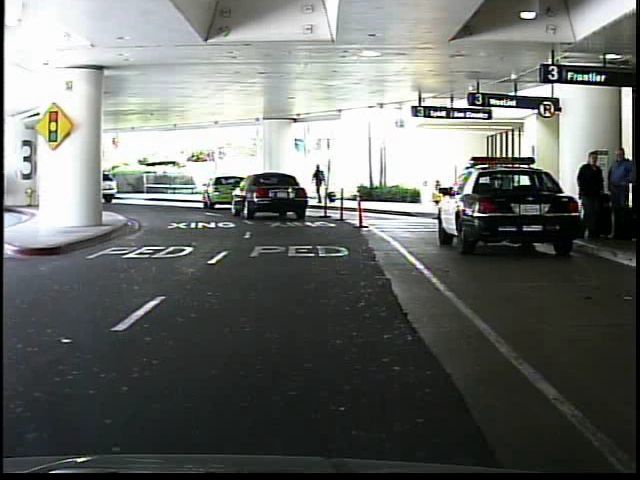person: (603, 144, 634, 247), (576, 146, 607, 244), (313, 161, 332, 205)
